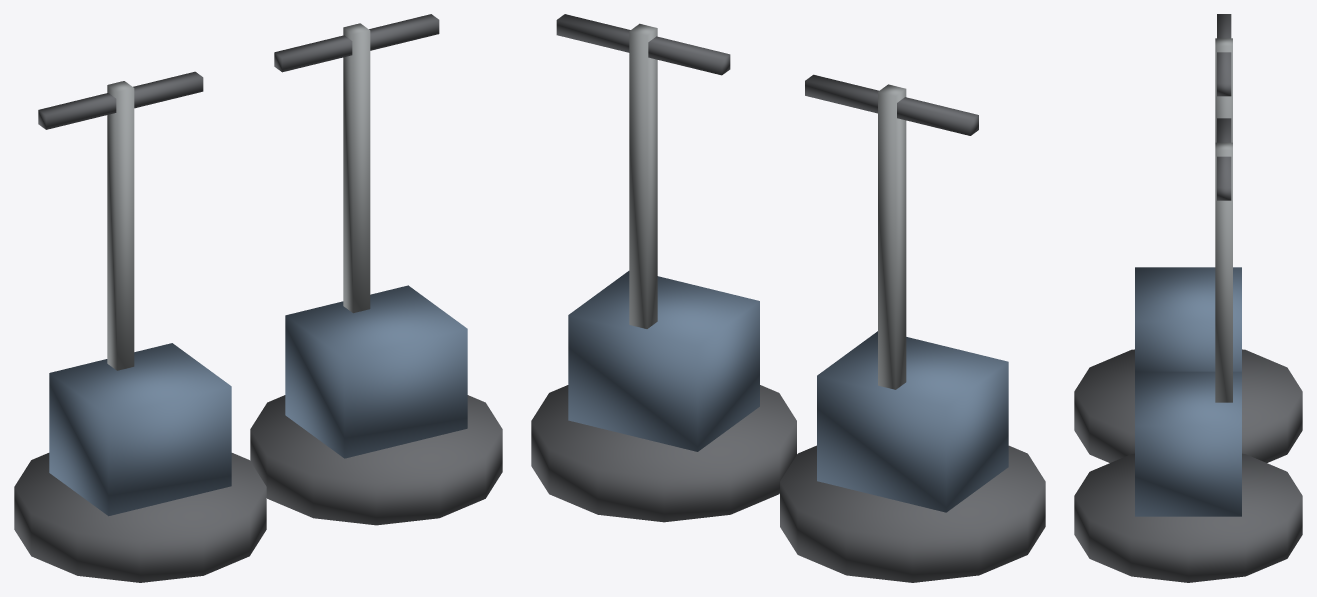
File: floor_buffer__cluster.glb
The picture shows the model from 3 angles, left to right: view 1: azimuth 30°, elevation 25°; view 2: azimuth 150°, elevation 25°; view 3: azimuth 270°, elevation 25°; orthographic projection. The views are drawn at different scales.
Visible parts, largest first — view 1: world; view 2: world; view 3: world.
Part boxes in pixels (bbox=[...]): world: bbox=[14, 14, 502, 582]; world: bbox=[531, 14, 1045, 582]; world: bbox=[1074, 14, 1302, 582].
Size of the model in its own units: 1.33 by 1.2 by 0.64.
